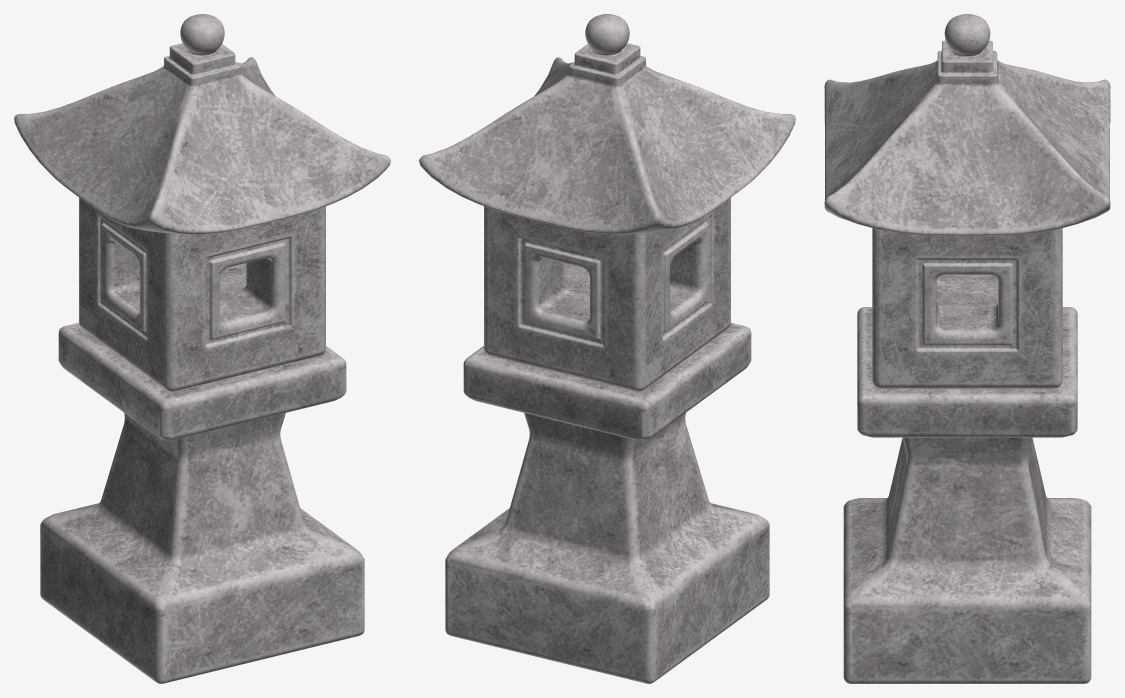
Rendered from stone_lantern.glb.
3 renders of one model, left to right at view 1: azimuth 30°, elevation 25°; view 2: azimuth 150°, elevation 25°; view 3: azimuth 270°, elevation 25°, orthographic. The views are drawn at different scales.
Visible parts, largest first — view 1: SM_ChinaLamp; view 2: SM_ChinaLamp; view 3: SM_ChinaLamp.
Boxes of the visible parts, box(x1,y1,x2,y2) form: SM_ChinaLamp: box(14, 14, 390, 683); SM_ChinaLamp: box(419, 14, 795, 683); SM_ChinaLamp: box(824, 14, 1110, 683).
Size of the model in its own units: 0.2307 by 0.5489 by 0.2307.
1 material, 1 textured.
